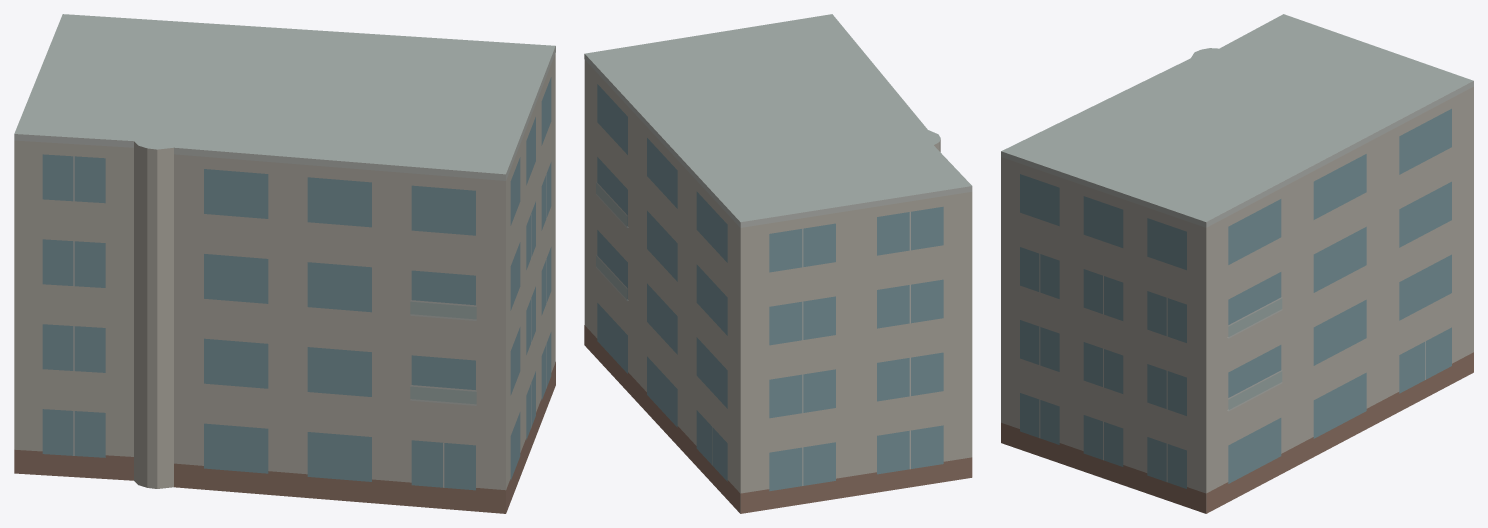
File: survey-upis-32885555.glb
3 renders of one model, left to right at view 1: azimuth 30°, elevation 25°; view 2: azimuth 150°, elevation 25°; view 3: azimuth 270°, elevation 25°, orthographic. The views are drawn at different scales.
Visible parts, largest first — view 1: survey-upis-32885555.tmp; view 2: survey-upis-32885555.tmp; view 3: survey-upis-32885555.tmp.
Part boxes in pixels (x1=…): survey-upis-32885555.tmp: x1=14, y1=14, x2=555, y2=513; survey-upis-32885555.tmp: x1=584, y1=14, x2=972, y2=513; survey-upis-32885555.tmp: x1=1001, y1=14, x2=1473, y2=513.
Size of the model in its own units: 19.14 by 12.5 by 18.37.
